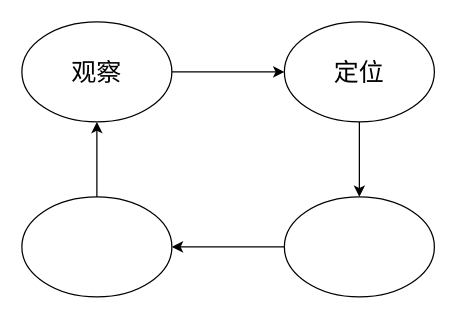
This 456x319 diagram has some shape labels left out. Each missing label, with the box of its shape:
决策: (283, 196, 434, 297)
行动: (21, 196, 172, 297)
